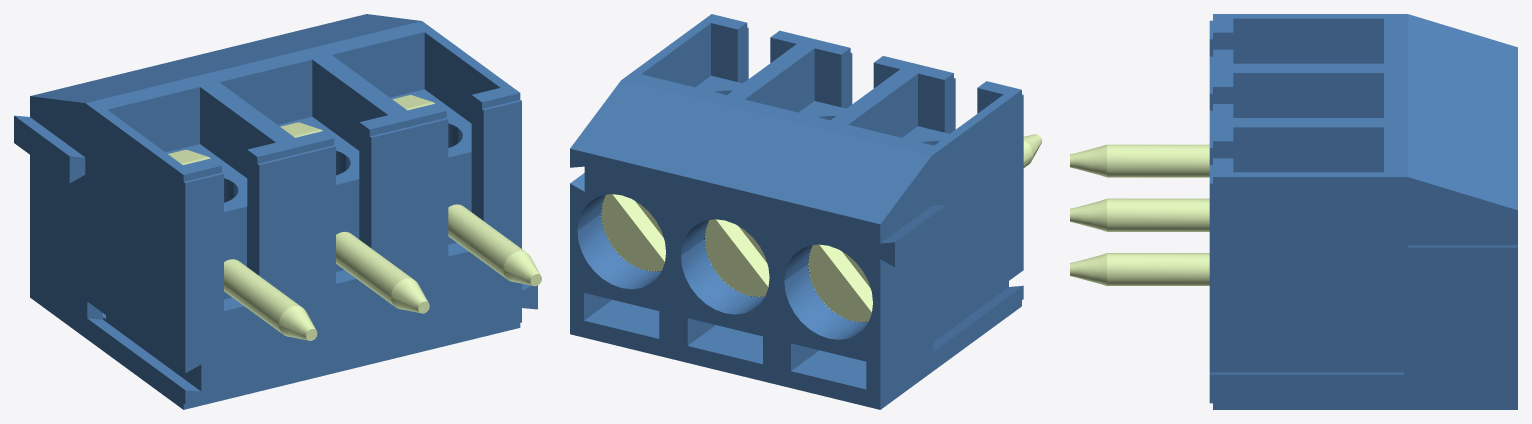
File: sfe-screw_terminal_3.5mm_3p_blue.glb
3 renders of one model, left to right at view 1: azimuth 30°, elevation 25°; view 2: azimuth 150°, elevation 25°; view 3: azimuth 270°, elevation 25°, orthographic. The views are drawn at different scales.
Visible parts, largest first — view 1: 0.08333333333333333_0.25_0.5_0, 0.8333333333333334_1_0.5_0; view 2: 0.08333333333333333_0.25_0.5_0, 0.8333333333333334_1_0.5_0; view 3: 0.08333333333333333_0.25_0.5_0, 0.8333333333333334_1_0.5_0.
Part boxes in pixels (box(x1,y1,x2,y2)): 0.08333333333333333_0.25_0.5_0: box(14, 14, 537, 409); 0.8333333333333334_1_0.5_0: box(168, 95, 541, 340); 0.08333333333333333_0.25_0.5_0: box(570, 14, 1023, 409); 0.8333333333333334_1_0.5_0: box(601, 134, 1041, 322); 0.08333333333333333_0.25_0.5_0: box(1209, 14, 1517, 409); 0.8333333333333334_1_0.5_0: box(1070, 144, 1209, 285).
Size of the model in its own units: 1.15 by 0.7 by 1.22.
